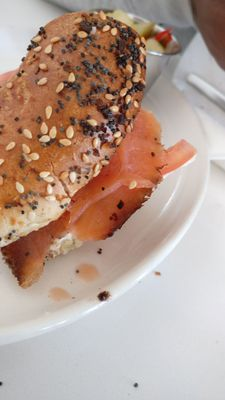curry: (0, 0, 223, 390)
sushi: (0, 9, 169, 289)
